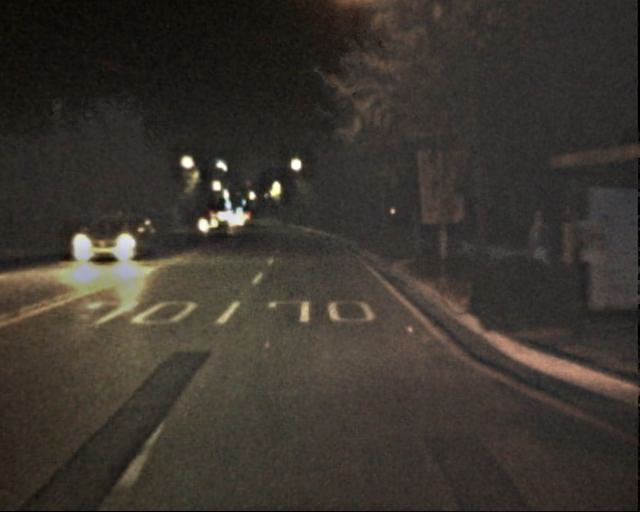person: (526, 210, 558, 287)
